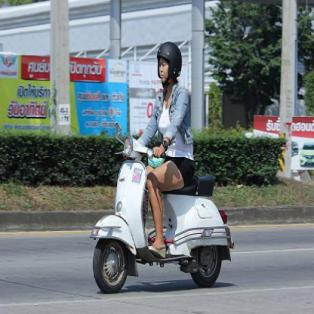Motocicleta: (91, 121, 232, 294)
